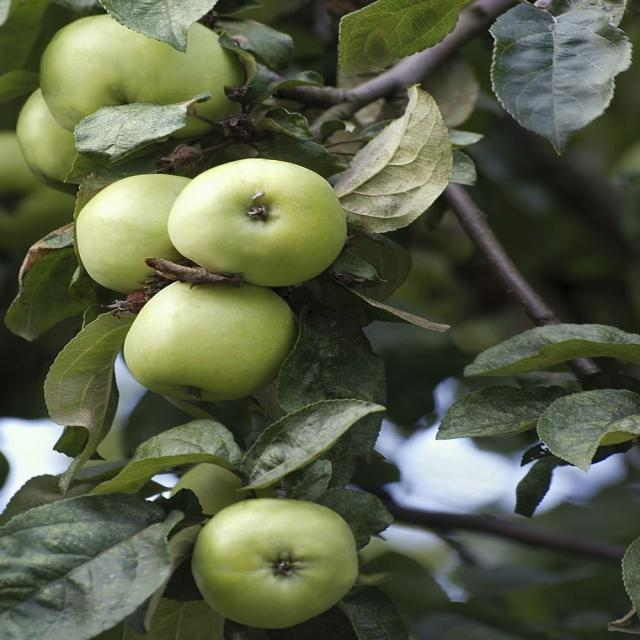Green Apple: (51, 4, 223, 151), (193, 494, 353, 630), (186, 155, 350, 278), (135, 280, 294, 406), (75, 174, 186, 290), (10, 84, 117, 174), (1, 131, 70, 241)
